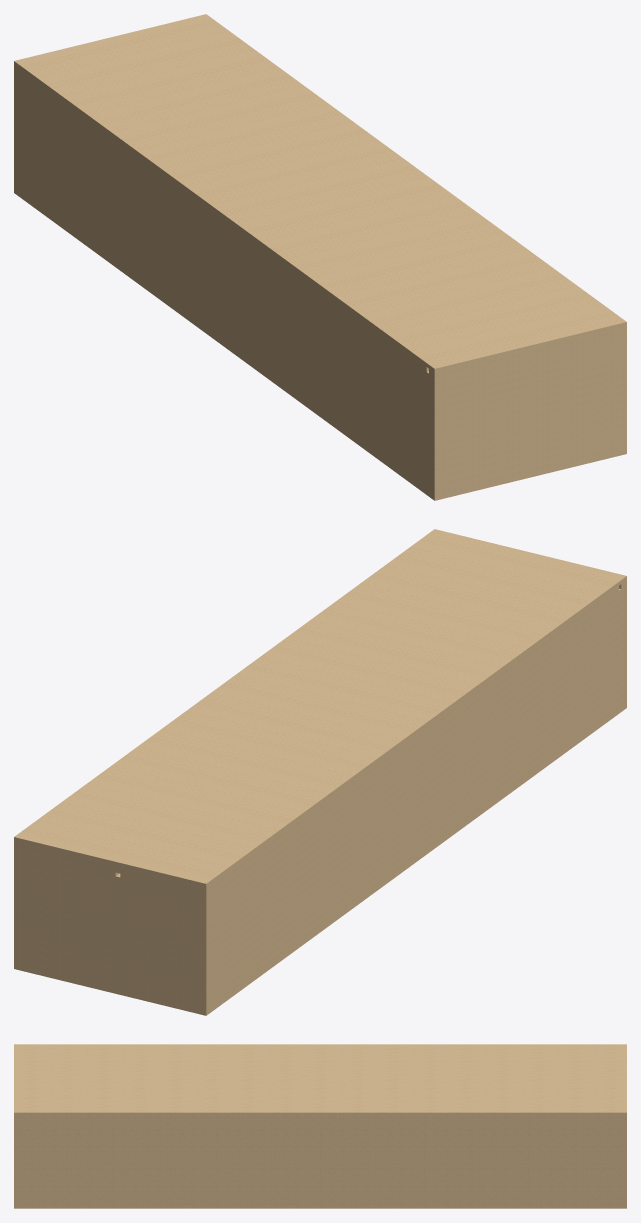
File: fastroom.fbx
The picture shows the model from 3 angles, top to bottom: view 1: azimuth 30°, elevation 25°; view 2: azimuth 150°, elevation 25°; view 3: azimuth 270°, elevation 25°; orthographic projection. The views are drawn at different scales.
Parts seen in each view (by area): view 1: fastroomapplied; view 2: fastroomapplied; view 3: fastroomapplied.
Part boxes in pixels (box(x1,y1,x2,y2)): fastroomapplied: box(14, 14, 626, 500); fastroomapplied: box(14, 529, 626, 1015); fastroomapplied: box(14, 1044, 626, 1208).
Size of the model in its own units: 42817 by 28086 by 162253.
